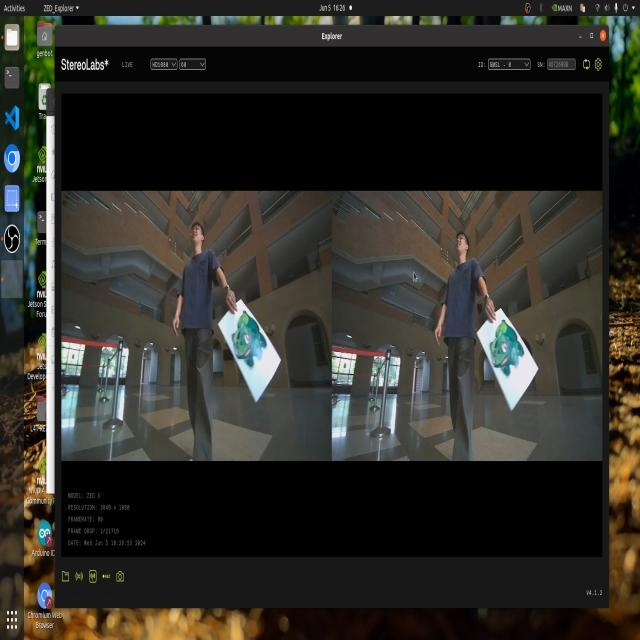green: (227, 304, 282, 372), (486, 311, 524, 368)
